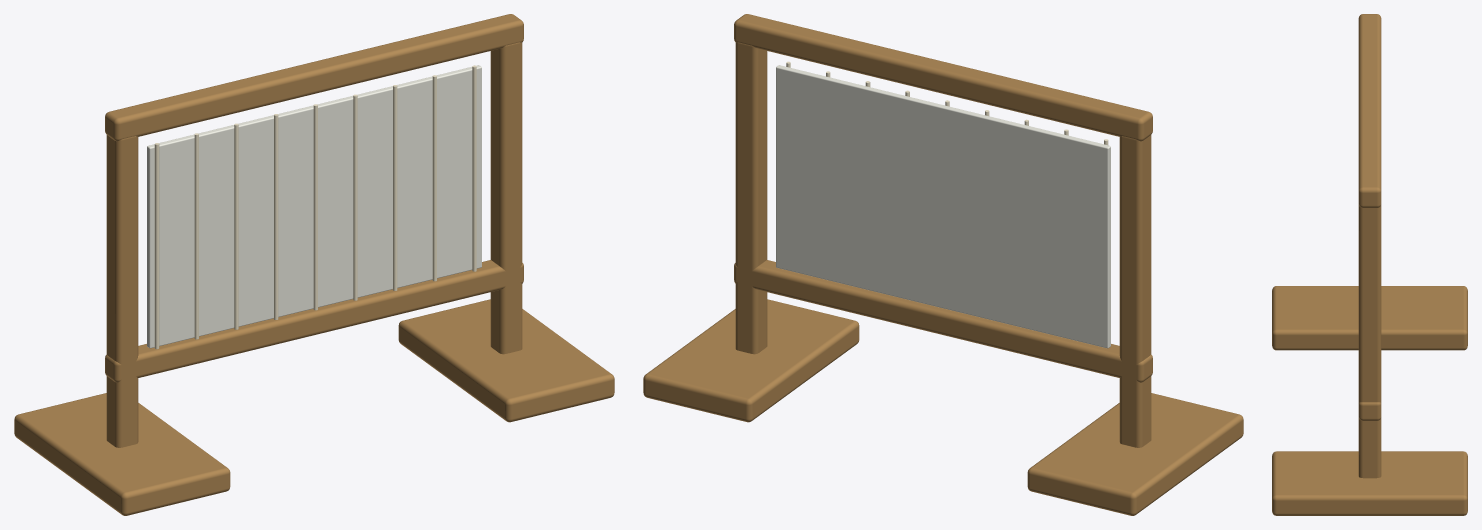
File: abandoned-puppet-theatre-and-prop-vault-costume-sewing-8367acee__31094.glb
The picture shows the model from 3 angles, left to right: view 1: azimuth 30°, elevation 25°; view 2: azimuth 150°, elevation 25°; view 3: azimuth 270°, elevation 25°; orthographic projection. The views are drawn at different scales.
Parts seen in each view (by area): view 1: costume-sewing-frame; view 2: costume-sewing-frame; view 3: costume-sewing-frame.
Boxes of the visible parts, left/top/right/bottom form: costume-sewing-frame: left=14, top=14, right=614, bottom=515; costume-sewing-frame: left=643, top=14, right=1243, bottom=515; costume-sewing-frame: left=1272, top=14, right=1467, bottom=515.
Bounding box in the file's own units: 0.77 × 0.525 × 0.3.
